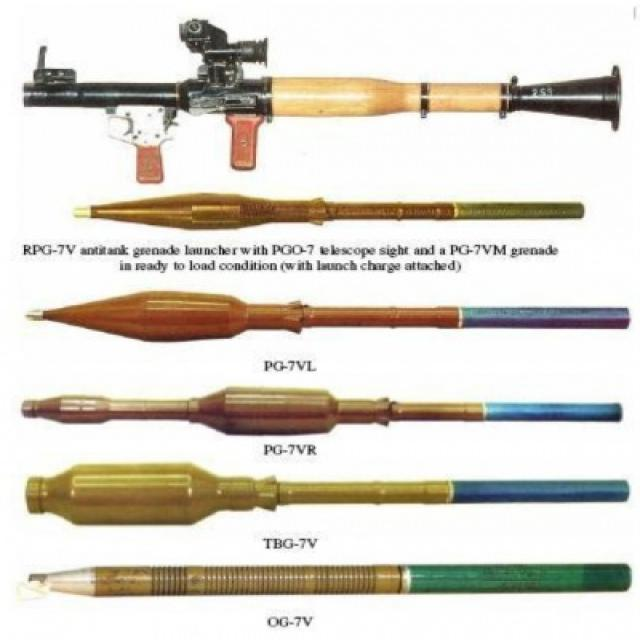Gun: (7, 12, 640, 183)
